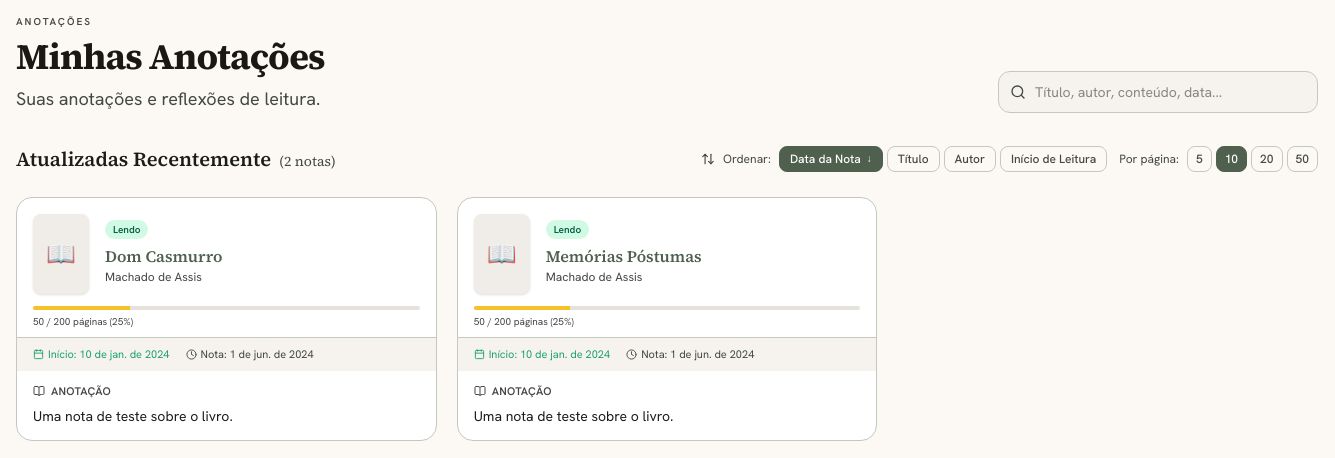
Test case: NotesDashboardPage — search filter › filters by book title
Type "Dom" into the field with placeholder "Título, autor, conteúdo, data..." at (1158, 92), box x1=998 y1=71 x2=1318 y2=113
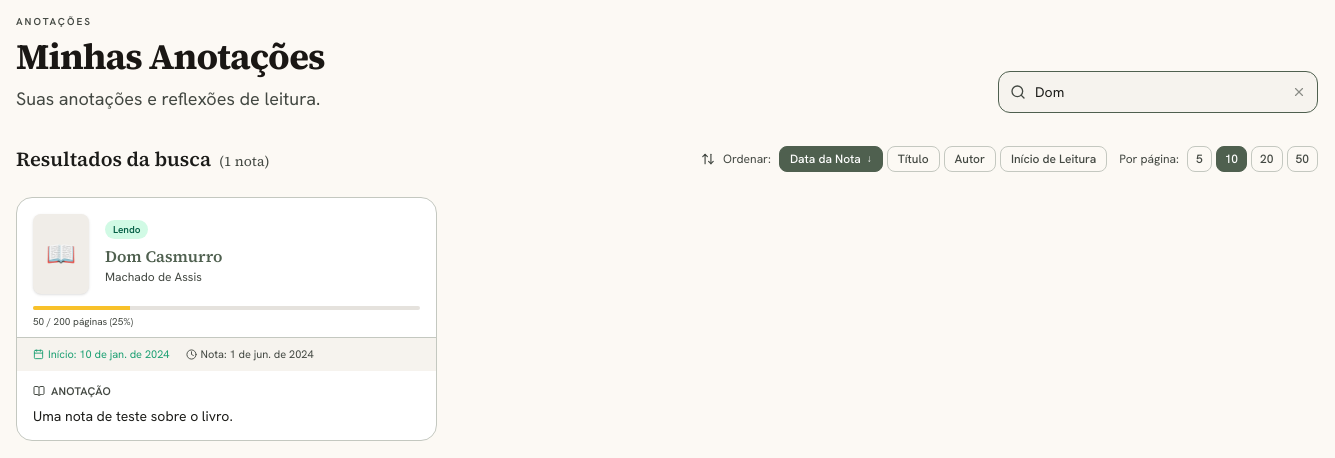
Expected: the heading "Dom Casmurro" is shown, x1=105 y1=245 x2=222 y2=267
Result: the heading "Memórias Póstumas" is gone
